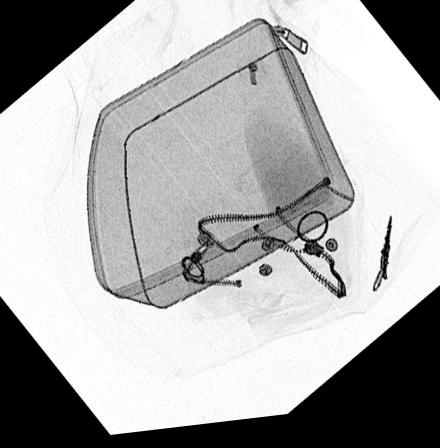Scissors: (370, 226, 393, 300)
